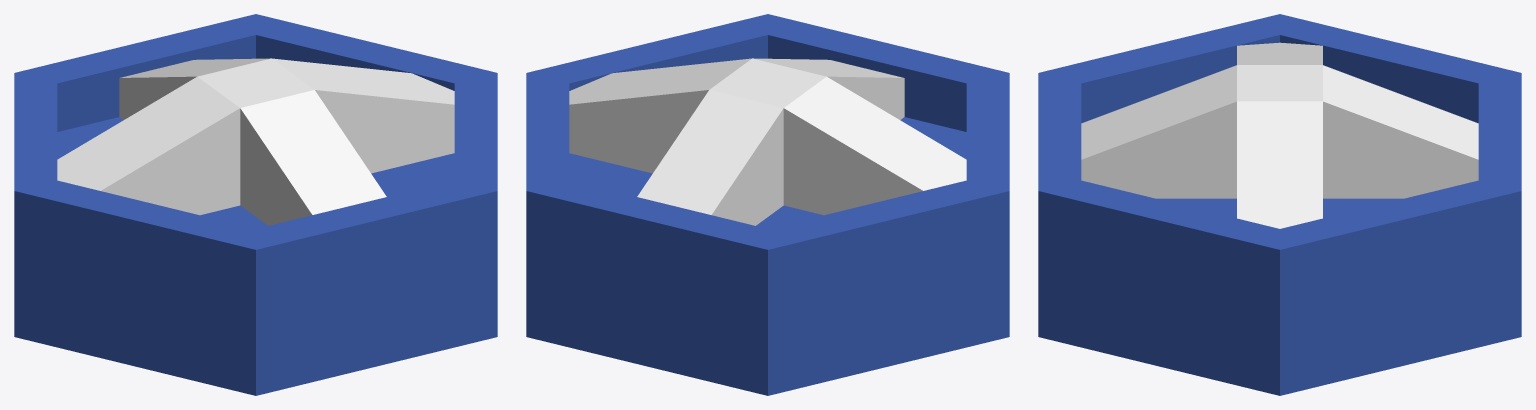
Rendered from r2c_blue_cross.fbx.
The picture shows the model from 3 angles, left to right: view 1: azimuth 30°, elevation 25°; view 2: azimuth 150°, elevation 25°; view 3: azimuth 270°, elevation 25°; orthographic projection.
Parts seen in each view (by area): view 1: 개체_1, 개체_2; view 2: 개체_1, 개체_2; view 3: 개체_1, 개체_2.
Boxes of the visible parts, x1=… form: 개체_1: x1=14, y1=14, x2=497, y2=395; 개체_2: x1=57, y1=58, x2=454, y2=225; 개체_1: x1=526, y1=14, x2=1009, y2=395; 개체_2: x1=569, y1=58, x2=966, y2=225; 개체_1: x1=1038, y1=14, x2=1521, y2=395; 개체_2: x1=1081, y1=42, x2=1478, y2=228.
Bounding box in the file's own units: 5.2 × 2 × 4.5.
